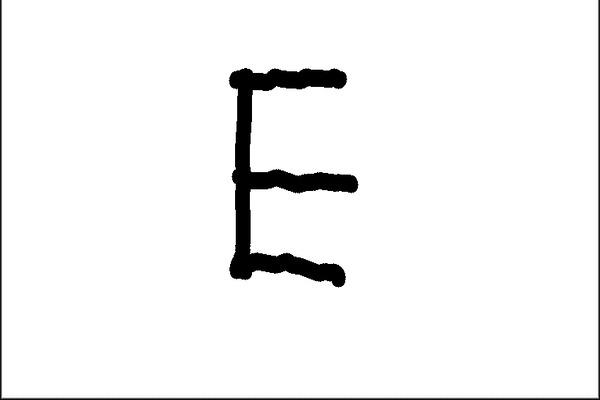E: (219, 61, 380, 291)
